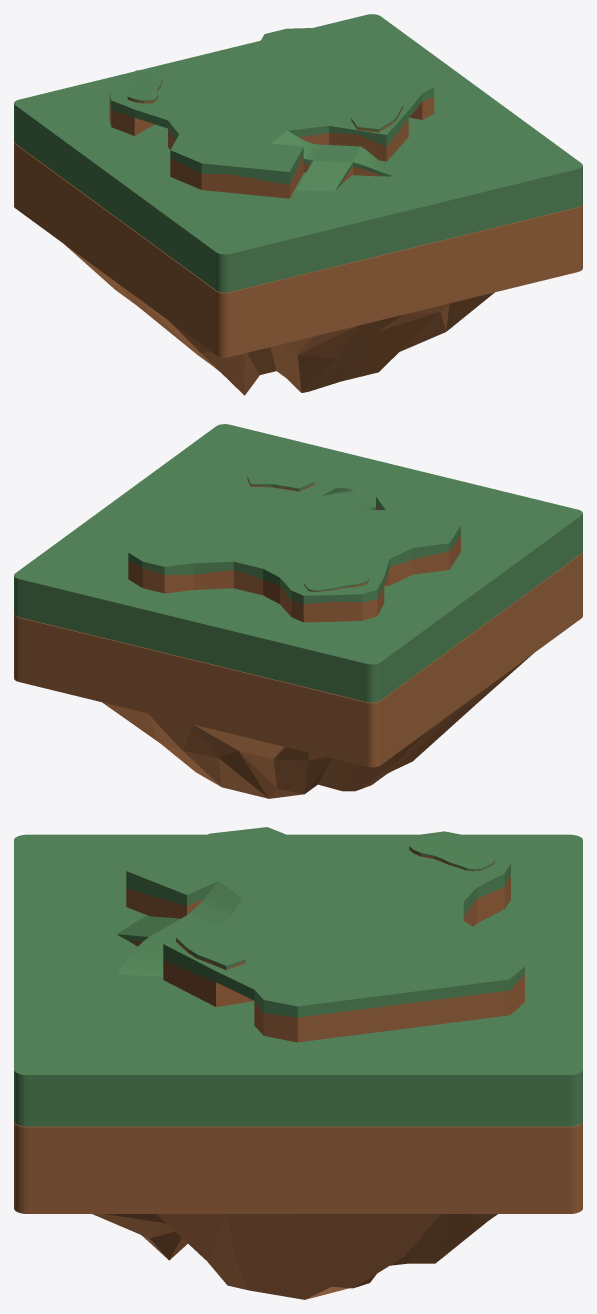
File: lowPolyIsland.glb
3 views of the same model, one above another, from view 1: azimuth 30°, elevation 25°; view 2: azimuth 150°, elevation 25°; view 3: azimuth 270°, elevation 25° (orthographic). The views are drawn at different scales.
Parts seen in each view (by area): view 1: Grass, Island, grassSecondLevel, islandSecondLevel, islandThirdLevel, islandThirdLevel2; view 2: Grass, Island, grassSecondLevel, islandSecondLevel, islandThirdLevel, islandThirdLevel2; view 3: Grass, Island, grassSecondLevel, islandSecondLevel, islandThirdLevel, islandThirdLevel2.
Part boxes in pixels (x1,y1,x2,y2): Grass: (14, 14, 582, 292); Island: (14, 142, 582, 395); grassSecondLevel: (109, 28, 434, 191); islandSecondLevel: (109, 97, 434, 198); islandThirdLevel: (351, 102, 403, 132); islandThirdLevel2: (127, 73, 162, 103); Grass: (14, 424, 582, 702); Island: (14, 552, 582, 798); grassSecondLevel: (128, 471, 460, 603); islandSecondLevel: (128, 505, 460, 622); islandThirdLevel: (247, 472, 314, 491); islandThirdLevel2: (304, 570, 368, 592); Grass: (14, 834, 582, 1126); Island: (14, 1122, 582, 1299); grassSecondLevel: (117, 827, 524, 1017); islandSecondLevel: (126, 875, 524, 1042); islandThirdLevel: (176, 928, 245, 969); islandThirdLevel2: (409, 836, 494, 871).
Size of the model in its own units: 2001 by 1301 by 2000.
